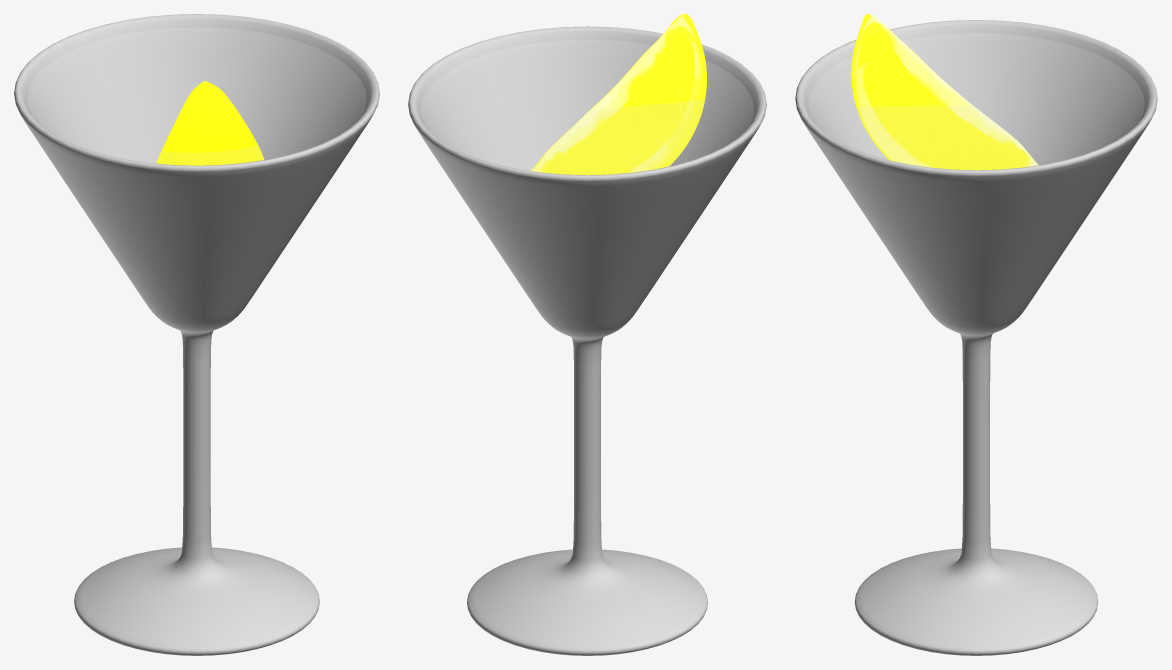
The model's file is MartiniGlass.glb.
The picture shows the model from 3 angles, left to right: view 1: azimuth 30°, elevation 25°; view 2: azimuth 150°, elevation 25°; view 3: azimuth 270°, elevation 25°; orthographic projection.
Visible parts, largest first — view 1: cgaxis_models_08_19_04, cgaxis_models_08_19_01, Sphere; view 2: cgaxis_models_08_19_04, cgaxis_models_08_19_01, Sphere; view 3: cgaxis_models_08_19_04, cgaxis_models_08_19_01, Sphere.
Boxes of the visible parts, x1,y1,x2,y2 form: cgaxis_models_08_19_04: (14,14,379,655); cgaxis_models_08_19_01: (27,27,366,164); Sphere: (156,81,264,165); cgaxis_models_08_19_04: (408,26,766,655); cgaxis_models_08_19_01: (421,40,753,174); Sphere: (531,14,706,175); cgaxis_models_08_19_04: (795,20,1157,655); cgaxis_models_08_19_01: (808,33,1144,169); Sphere: (851,14,1038,170).
Size of the model in its own units: 0.0784 by 0.1359 by 0.0784.
Materials: 3 (1 with a texture image).
